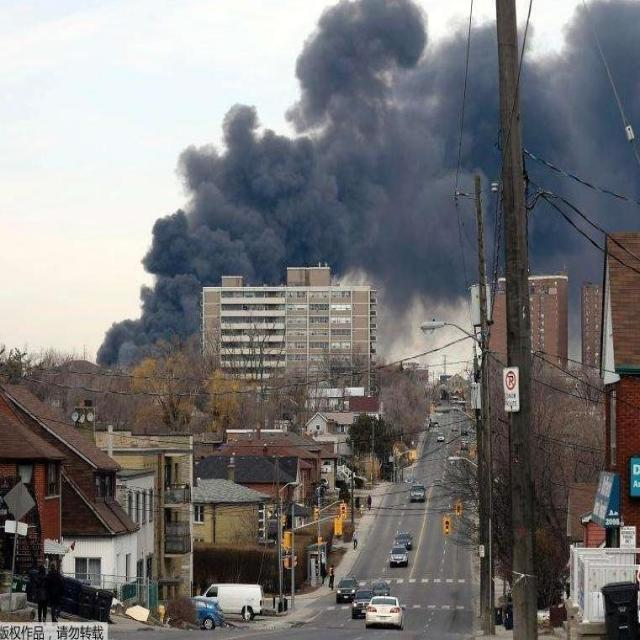Smoke: (93, 1, 640, 384)
